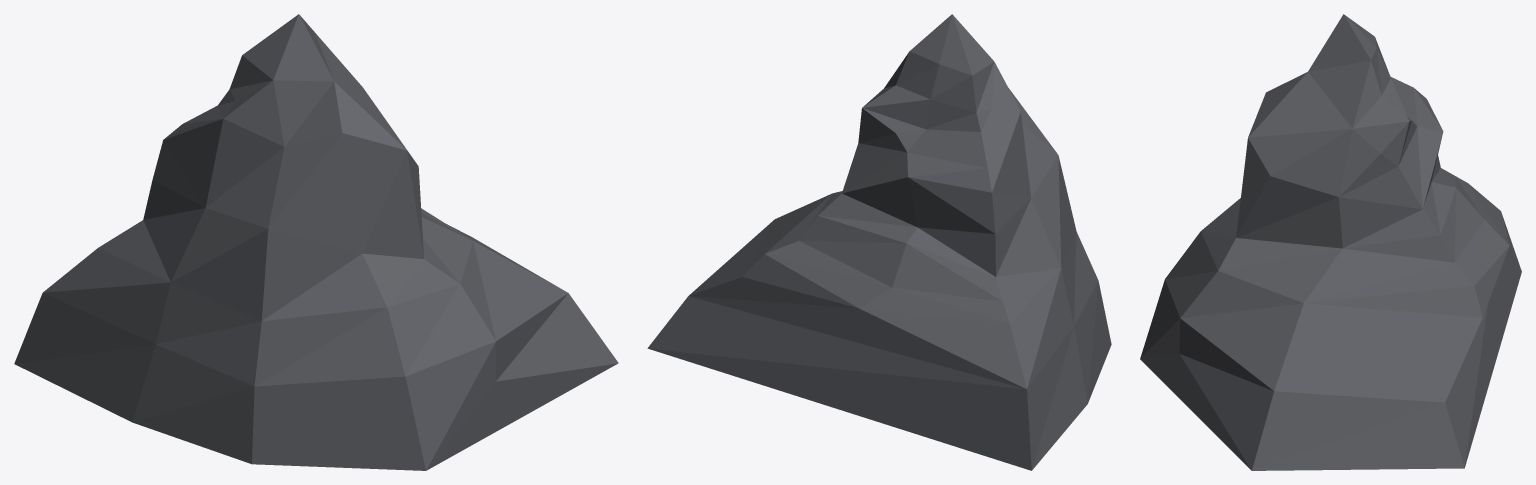
File: SP_Mountain02.fbx
The picture shows the model from 3 angles, left to right: view 1: azimuth 30°, elevation 25°; view 2: azimuth 150°, elevation 25°; view 3: azimuth 270°, elevation 25°; orthographic projection. The views are drawn at different scales.
Visible parts, largest first — view 1: SP_Mountain02; view 2: SP_Mountain02; view 3: SP_Mountain02.
Boxes of the visible parts, left/top/right/bottom form: SP_Mountain02: left=14, top=14, right=618, bottom=470; SP_Mountain02: left=647, top=14, right=1111, bottom=470; SP_Mountain02: left=1140, top=14, right=1521, bottom=470.
Bounding box in the file's own units: 481 × 382 × 390.
Materials: 1 (1 with a texture image).
